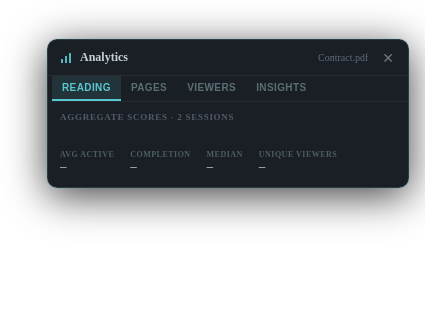
Test: InsightsModal — Viewers tab › renders multiple viewer sessions from a bare array (correct contract)
This screenshot has width=425, height=309.
Click the button "Viewers" at x=212, y=88, box [177, 76, 246, 101]
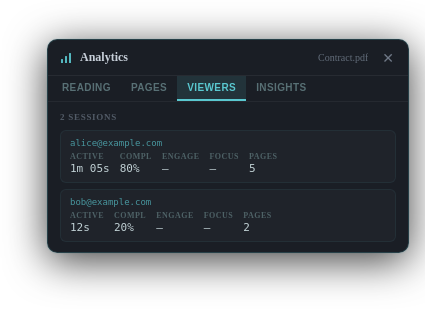
Check: the text "2 Sessions" is shown, box [60, 112, 117, 122]
Check: the text "alice@example.com" is shown, box [70, 138, 162, 148]
Check: the text "bob@example.com" is shown, box [70, 197, 151, 207]
